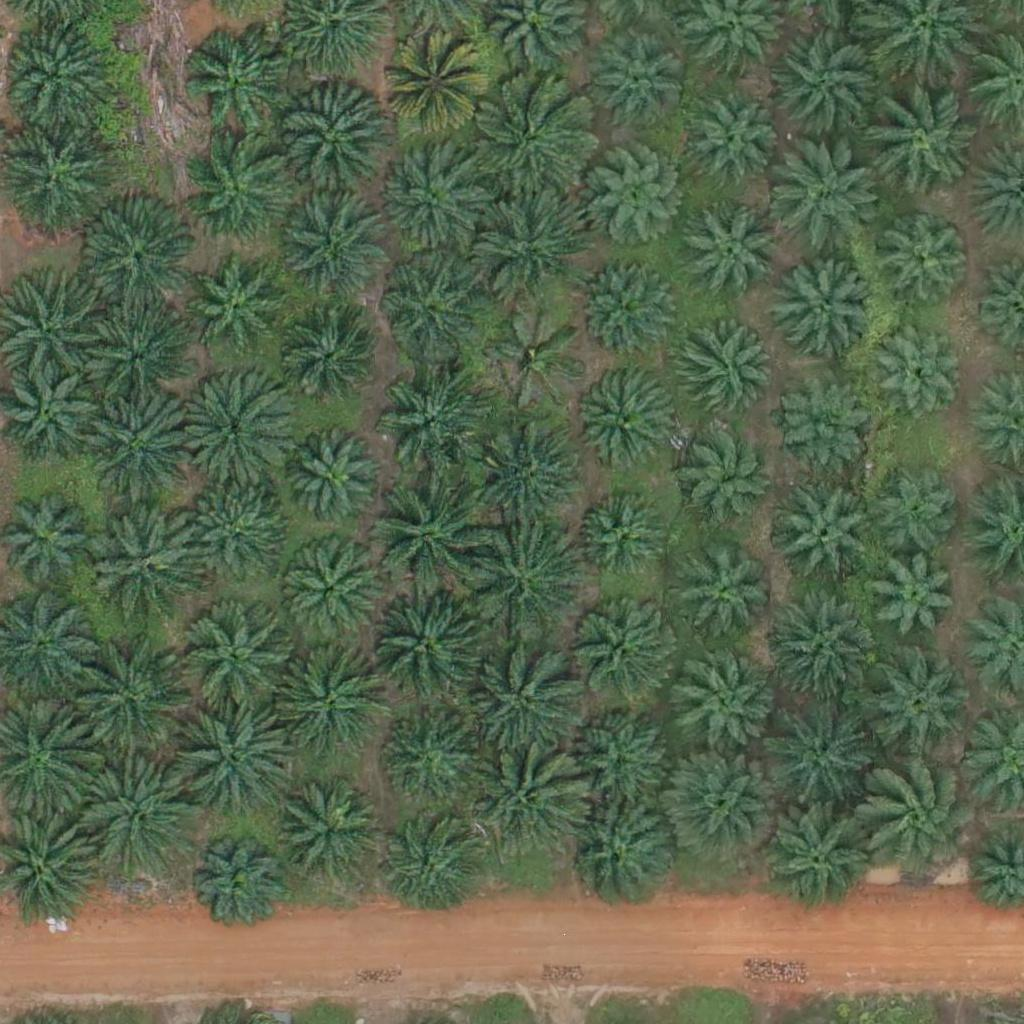Kelapa_Sawit: (859, 759, 984, 885), (370, 587, 483, 701), (177, 371, 290, 485), (86, 387, 199, 501), (80, 764, 193, 878), (3, 14, 116, 128), (769, 27, 882, 140), (763, 596, 876, 709), (763, 697, 876, 810), (759, 804, 872, 917), (464, 641, 577, 754), (467, 412, 580, 525), (471, 192, 584, 305), (475, 80, 588, 193), (369, 481, 482, 594), (278, 87, 391, 200), (272, 645, 385, 758), (180, 29, 293, 142), (182, 606, 295, 719), (91, 505, 204, 618), (768, 144, 880, 258), (467, 526, 579, 640), (183, 134, 295, 248), (862, 83, 974, 196), (859, 648, 971, 761), (668, 752, 780, 865), (562, 798, 674, 911), (467, 746, 579, 859), (375, 360, 487, 473), (274, 782, 386, 895), (184, 703, 296, 816), (84, 209, 196, 322), (73, 638, 185, 751), (875, 205, 975, 306), (775, 260, 875, 361), (779, 489, 879, 590), (680, 202, 780, 303), (672, 322, 772, 423), (677, 422, 777, 523), (673, 654, 773, 755), (578, 257, 678, 358), (575, 373, 675, 474), (574, 599, 674, 700), (376, 146, 476, 247), (378, 258, 478, 359), (382, 711, 482, 812), (379, 820, 479, 921), (284, 203, 384, 304), (279, 543, 379, 644), (185, 258, 285, 359), (771, 372, 871, 472), (581, 152, 681, 252), (575, 701, 675, 801), (487, 308, 587, 408), (382, 40, 482, 140), (276, 317, 376, 417), (187, 490, 287, 590), (87, 306, 187, 406), (289, 437, 377, 526), (577, 498, 665, 586), (873, 326, 960, 414), (873, 467, 960, 555), (870, 555, 957, 643), (692, 97, 779, 185), (681, 550, 768, 638), (594, 42, 681, 130), (192, 844, 279, 932)
